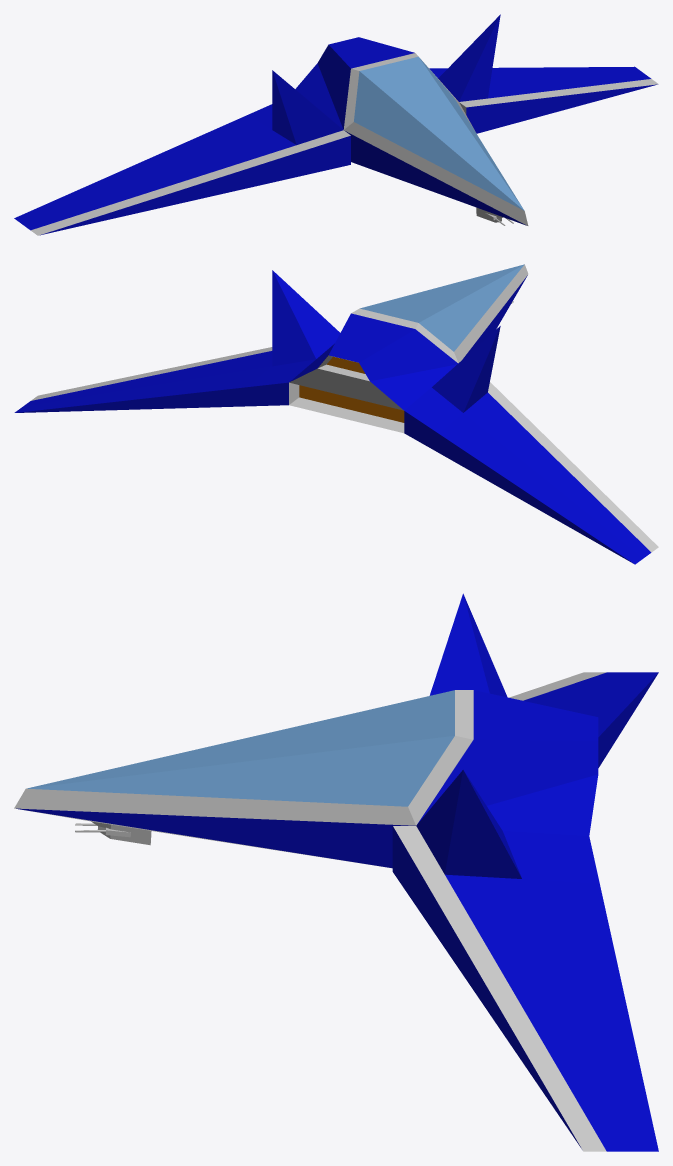
The model's file is spaceship.obj.
3 views of the same model, one above another, from view 1: azimuth 30°, elevation 25°; view 2: azimuth 150°, elevation 25°; view 3: azimuth 270°, elevation 25° (orthographic). The views are drawn at different scales.
Visible parts, largest first — view 1: plane; view 2: plane; view 3: plane.
Part boxes in pixels (<box>): plane: <box>14,14,658,235</box>; plane: <box>14,264,658,564</box>; plane: <box>14,593,658,1151</box>.
Size of the model in its own units: 19.28 by 4.33 by 10.96.
